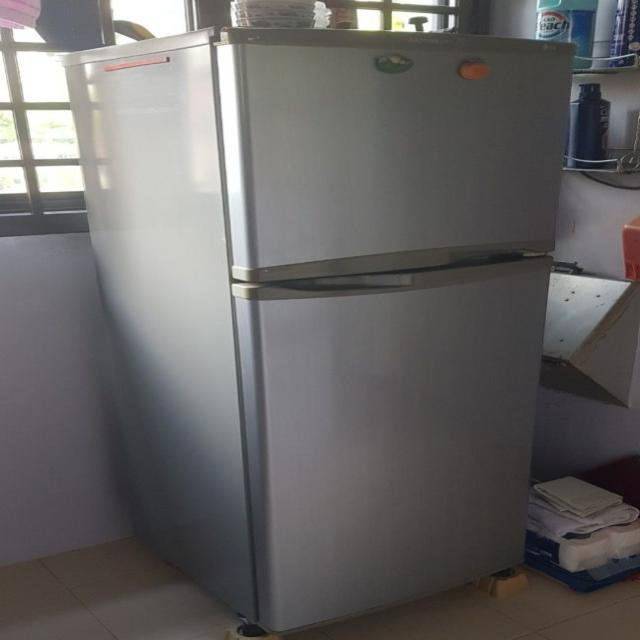refrigerator: (202, 15, 562, 639)
